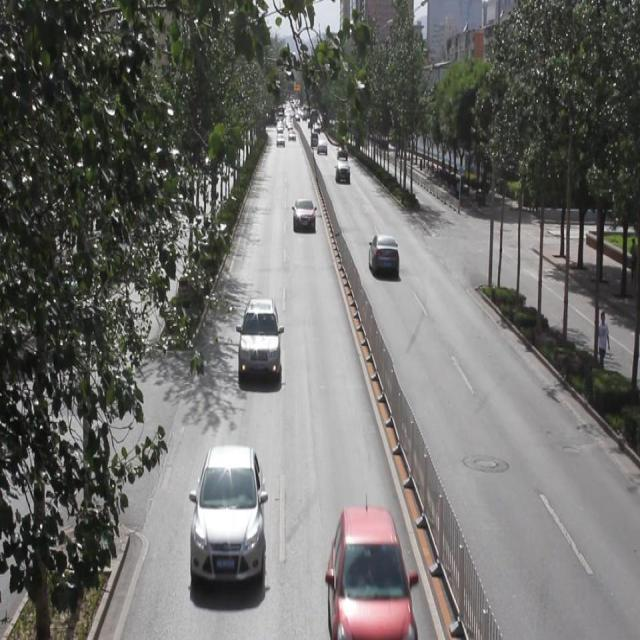car: (325, 506, 416, 640), (190, 445, 267, 585), (238, 299, 281, 382), (366, 234, 398, 278), (292, 198, 315, 233), (334, 160, 350, 183), (336, 143, 348, 160), (276, 132, 286, 149), (318, 140, 328, 154), (287, 130, 296, 142)
truck: (309, 132, 318, 147)
